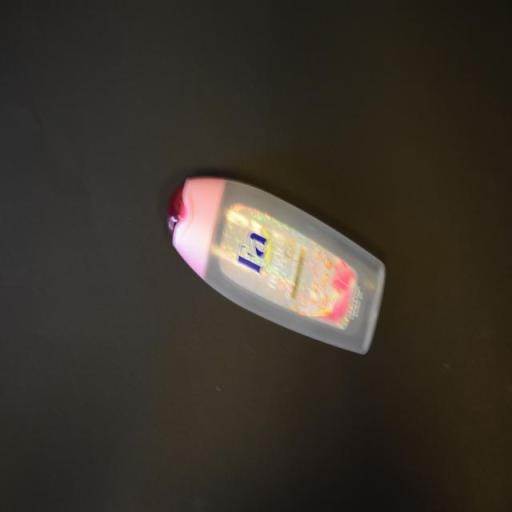plastic: (168, 174, 383, 358)
